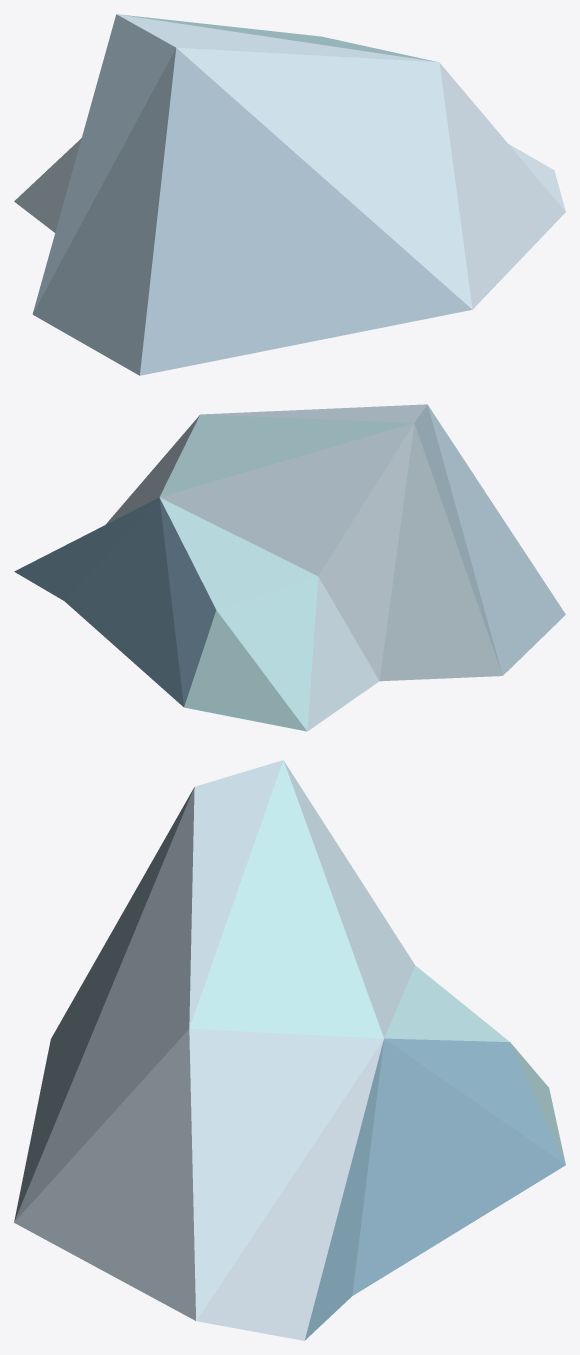
File: Iceberg 11.fbx
3 renders of one model, top to bottom at view 1: azimuth 30°, elevation 25°; view 2: azimuth 150°, elevation 25°; view 3: azimuth 270°, elevation 25°, orthographic. The views are drawn at different scales.
Visible parts, largest first — view 1: Iceberg 9; view 2: Iceberg 9; view 3: Iceberg 9.
Part boxes in pixels (left/top/right/bottom): Iceberg 9: left=14, top=14, right=565, bottom=375; Iceberg 9: left=14, top=404, right=565, bottom=731; Iceberg 9: left=14, top=760, right=565, bottom=1340.
Bounding box in the file's own units: 3089 × 1487 × 2309.
